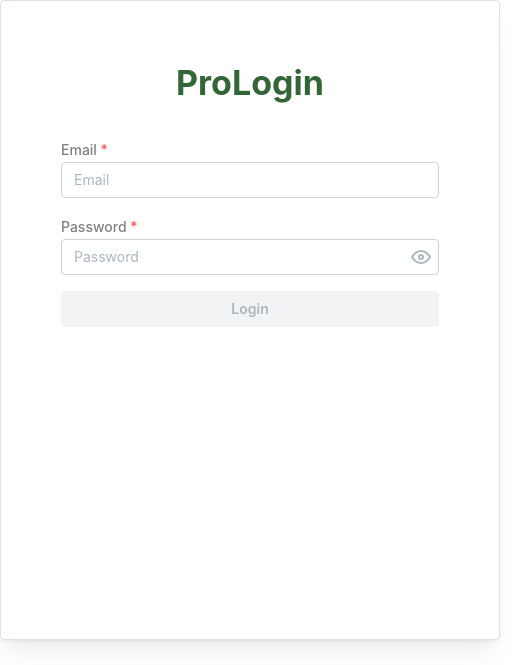
Test: Login › should display errors when login with invalid credentials
# Fill form
Type "test@test.com" into the field labelled "Email" at x=250, y=180, box top-left (61, 162), bottom-right (439, 198)
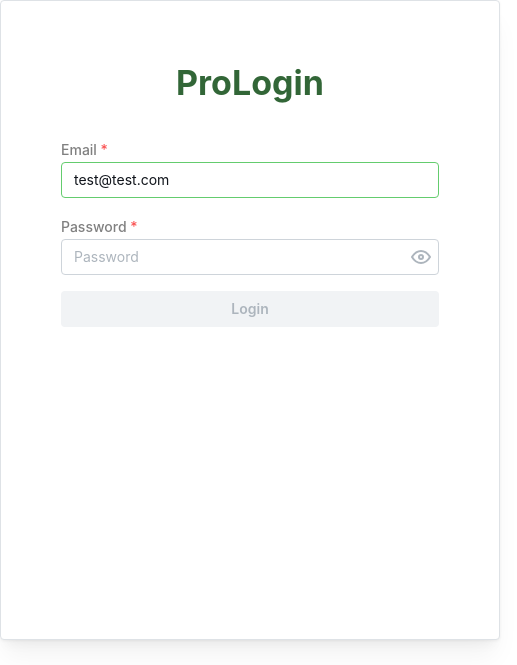
Type "test123" into the password field labelled "Password *" at x=250, y=257, box top-left (61, 239), bottom-right (439, 275)
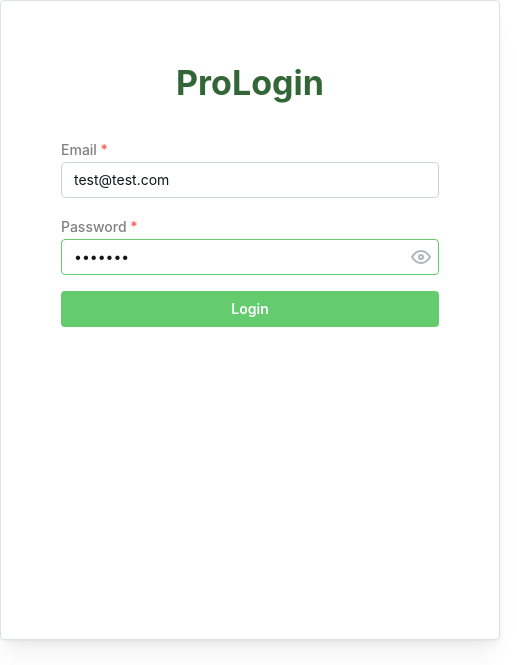
# Click login button
Click the button "Login" at x=250, y=309, box top-left (61, 291), bottom-right (439, 327)
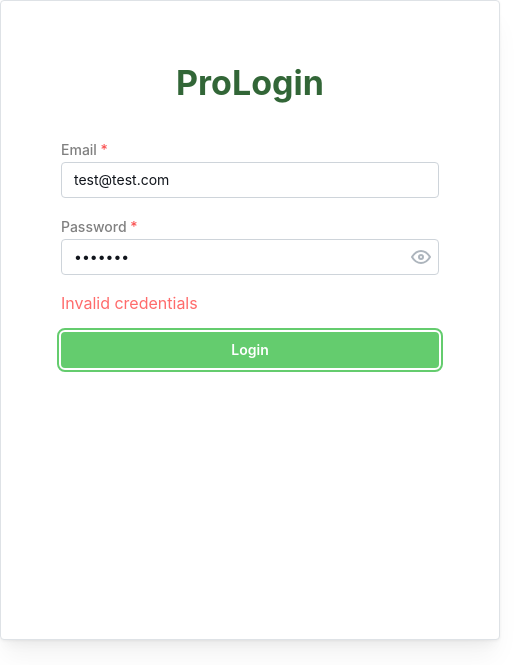
Expected: the text "Invalid credentials" is shown, top-left (61, 293), bottom-right (198, 313)
